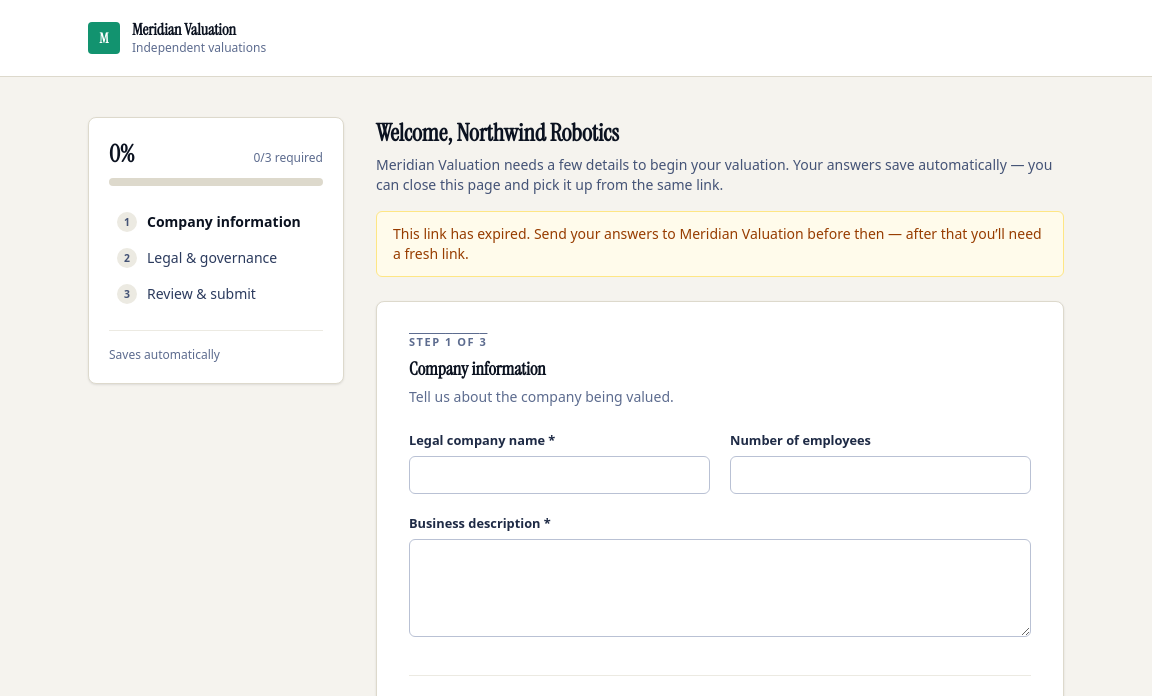
Test: ClientIntakePage › keeps the client’s typing when a save fails
Check: the heading "Welcome, Northwind Robotics" is shown, box x1=376 y1=117 x2=619 y2=148
Type "Halcyon" into the field labelled "Legal company name *" at (560, 475), box x1=409 y1=456 x2=710 y2=494
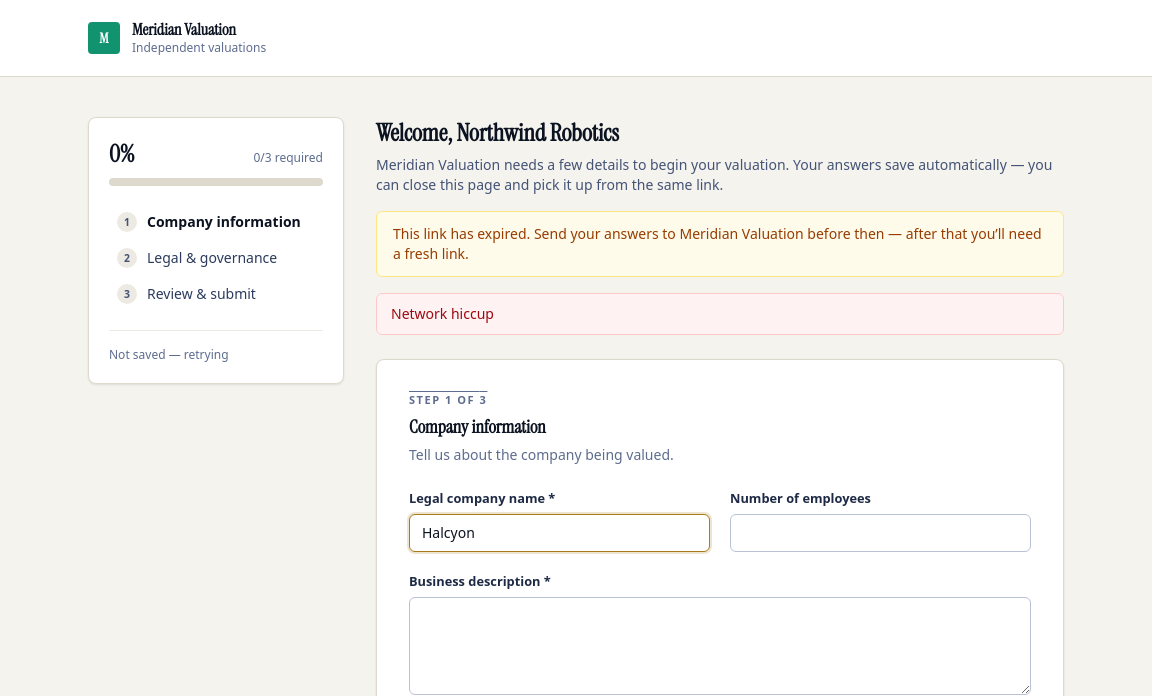
Check: the text "Network hiccup" is shown, box x1=376 y1=293 x2=1064 y2=335
Type " Bio" into the field labelled "Legal company name *" at (560, 533), box x1=409 y1=514 x2=710 y2=552
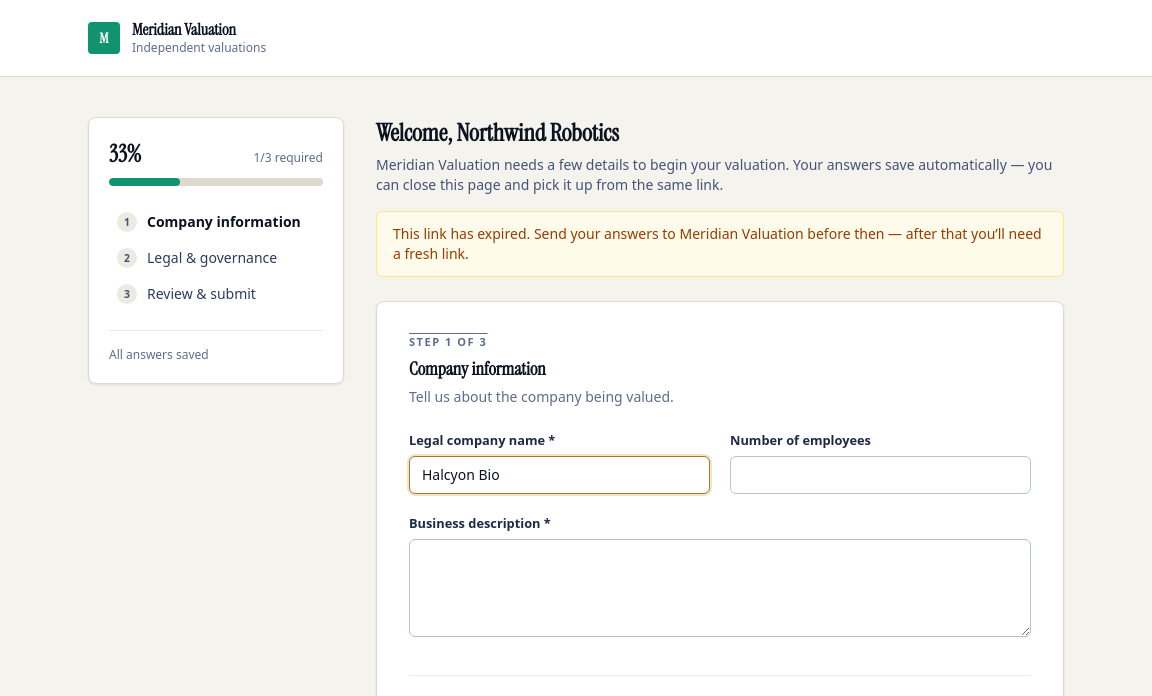
Check: the text "All answers saved" is shown, box x1=109 y1=330 x2=323 y2=363
